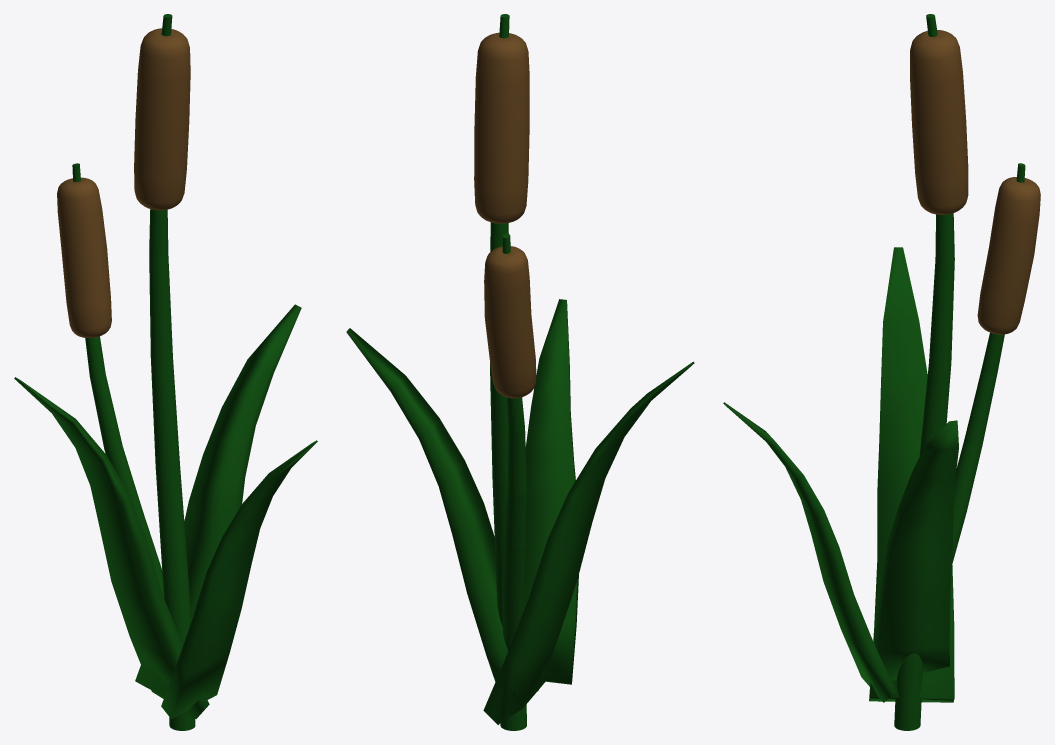
Rendered from cattails.obj.
3 views of the same model, side by side, from view 1: azimuth 30°, elevation 25°; view 2: azimuth 150°, elevation 25°; view 3: azimuth 270°, elevation 25° (orthographic). The views are drawn at different scales.
Visible parts, largest first — view 1: cattail; view 2: cattail; view 3: cattail.
Boxes of the visible parts, <box> form: cattail: <box>14,14,317,730</box>; cattail: <box>346,14,694,730</box>; cattail: <box>723,14,1040,730</box>.
Size of the model in its own units: 1.95 by 4.21 by 1.71.
Materials: 2 (2 with a texture image).
